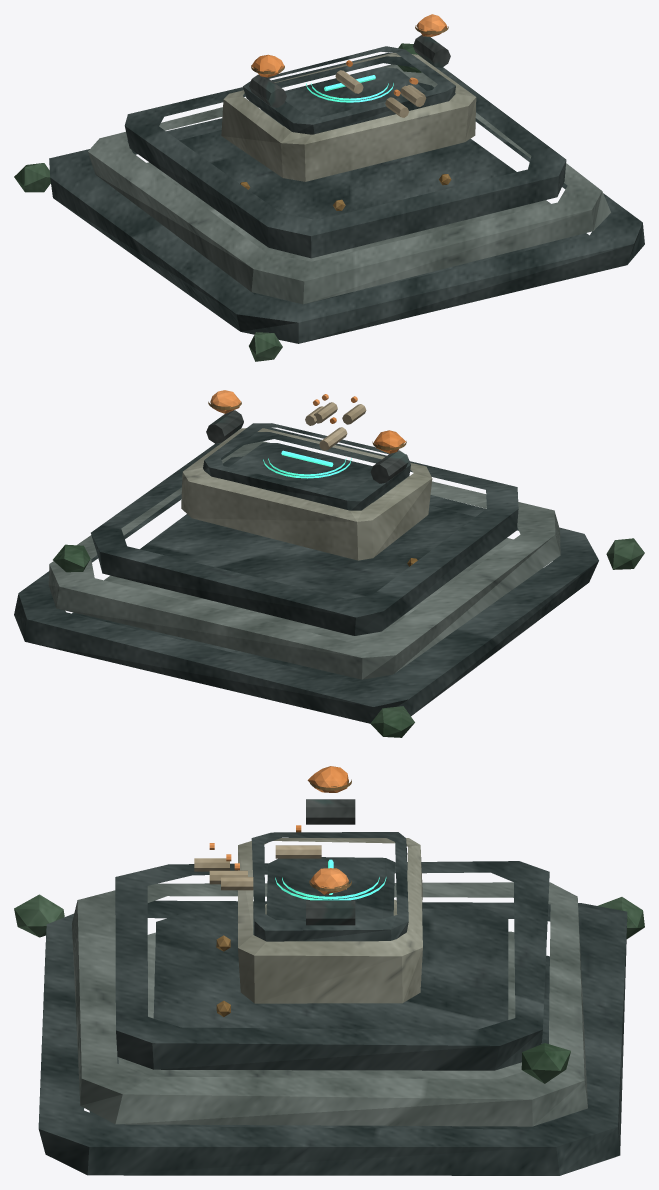
File: 0452_altar_02.glb
3 renders of one model, top to bottom at view 1: azimuth 30°, elevation 25°; view 2: azimuth 150°, elevation 25°; view 3: azimuth 270°, elevation 25°, orthographic. The views are drawn at different scales.
Parts seen in each view (by area): view 1: stone_dark, stone, stone_light, moss, iron, amber, bone, glow, brass; view 2: stone_dark, stone, stone_light, moss, iron, amber, bone, glow; view 3: stone_dark, stone, stone_light, moss, iron, bone, amber, brass, glow.
Part boxes in pixels (x1,y1,x2,y2): stone_dark: (49, 46, 644, 343); stone: (88, 64, 610, 304); stone_light: (221, 53, 476, 181); moss: (14, 43, 421, 361); iron: (249, 35, 450, 107); amber: (251, 14, 447, 96); bone: (335, 70, 426, 117); glow: (306, 75, 393, 102); brass: (240, 25, 451, 210); stone_dark: (14, 423, 598, 723); stone: (48, 441, 560, 679); stone_light: (181, 428, 432, 560); moss: (53, 538, 644, 737); iron: (206, 410, 408, 483); amber: (210, 390, 405, 453); bone: (305, 402, 366, 450); glow: (263, 450, 351, 478); stone_dark: (38, 832, 627, 1175); stone: (72, 882, 587, 1126); stone_light: (238, 838, 422, 1003); moss: (14, 894, 644, 1083); iron: (306, 799, 355, 925); bone: (194, 845, 321, 890); amber: (209, 766, 348, 894); brass: (216, 779, 351, 1016); glow: (275, 859, 386, 900).
Size of the model in its own units: 2.96 by 1.3 by 3.07.
9 materials, 9 textured.
